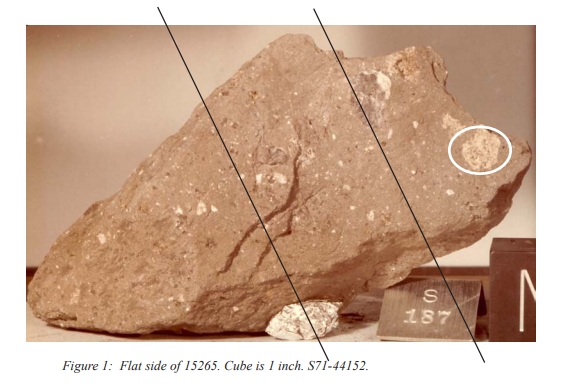Breccia: (112, 36, 509, 216), (37, 72, 260, 336), (225, 28, 436, 280)
